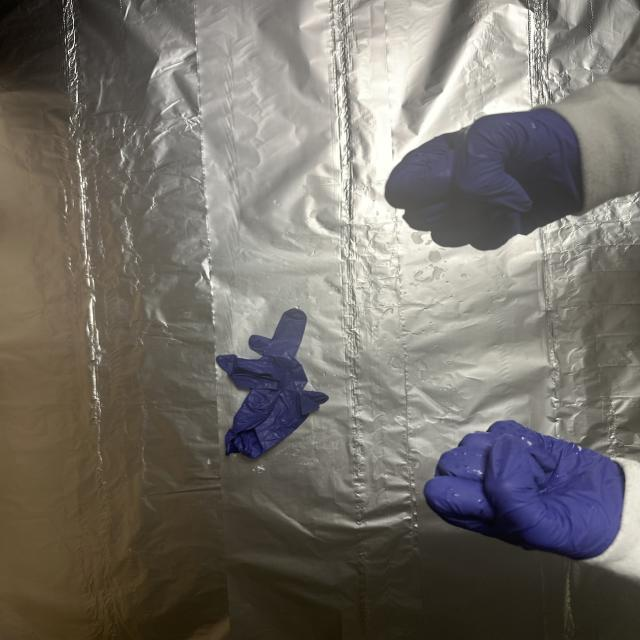gloves_contaminated: (385, 109, 583, 250), (424, 421, 624, 559)
